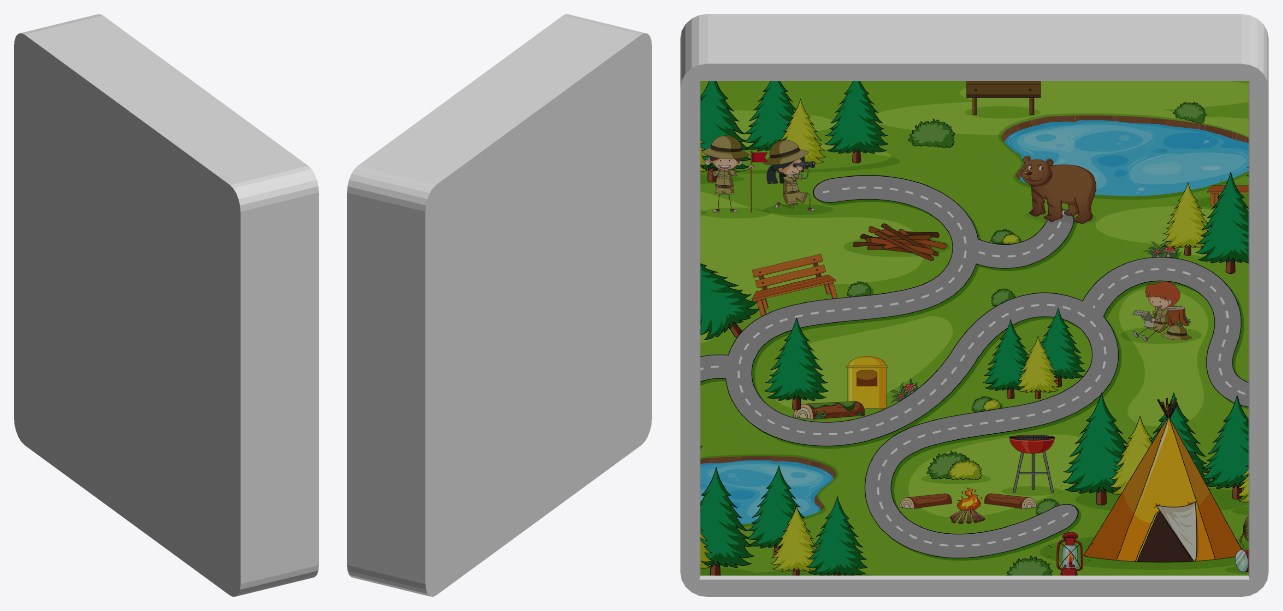
File: TravelBuddy_LandingPage_Map.glb
3 renders of one model, left to right at view 1: azimuth 30°, elevation 25°; view 2: azimuth 150°, elevation 25°; view 3: azimuth 270°, elevation 25°, orthographic. The views are drawn at different scales.
Parts seen in each view (by area): view 1: Cube; view 2: Cube; view 3: Plane, Cube.
Part boxes in pixels (bbox=[...]): Cube: bbox=[14, 14, 318, 596]; Cube: bbox=[347, 14, 651, 596]; Plane: bbox=[700, 81, 1248, 575]; Cube: bbox=[680, 14, 1268, 596].
Bounding box in the file's own units: 1.6 × 8 × 8.
2 materials, 1 textured.
